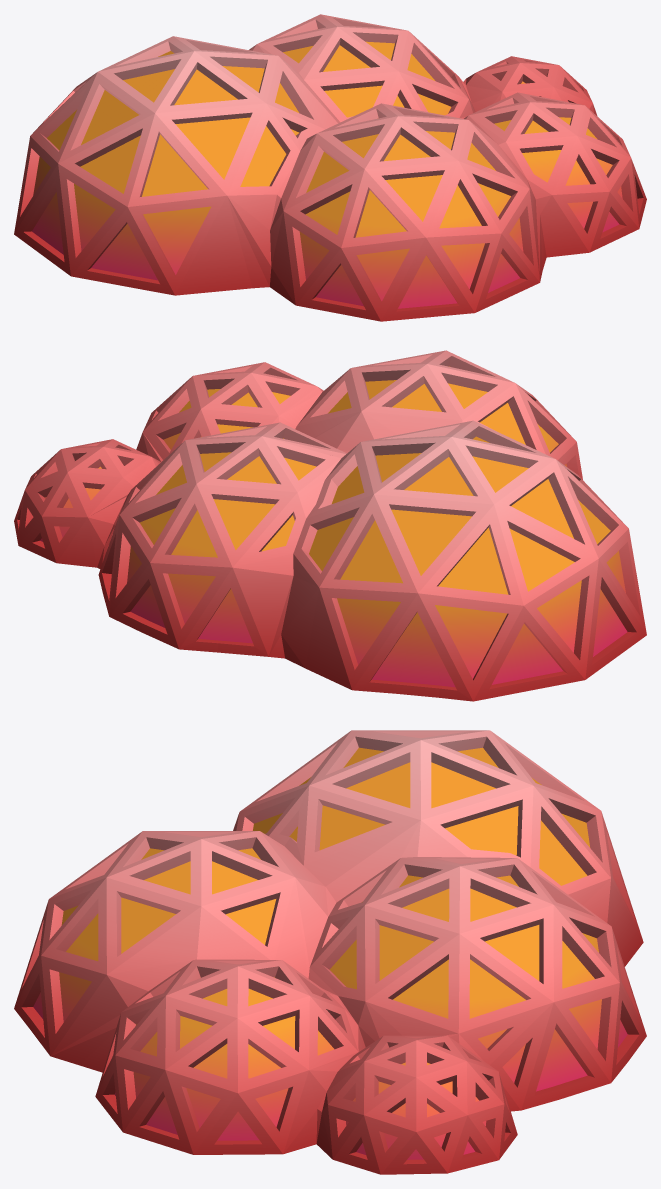
File: SM_Coral_15.fbx
3 renders of one model, top to bottom at view 1: azimuth 30°, elevation 25°; view 2: azimuth 150°, elevation 25°; view 3: azimuth 270°, elevation 25°, orthographic. The views are drawn at different scales.
Visible parts, largest first — view 1: Coral_15; view 2: Coral_15; view 3: Coral_15.
Boxes of the visible parts, x1=… form: Coral_15: x1=14, y1=14, x2=646, y2=321; Coral_15: x1=14, y1=350, x2=646, y2=701; Coral_15: x1=14, y1=730, x2=646, y2=1174.
Size of the model in its own units: 121 by 35.47 by 100.
